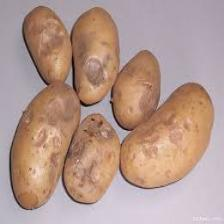Damaged potato: (118, 77, 215, 189), (10, 81, 82, 213), (64, 110, 122, 205), (72, 5, 122, 106), (21, 4, 74, 80)
